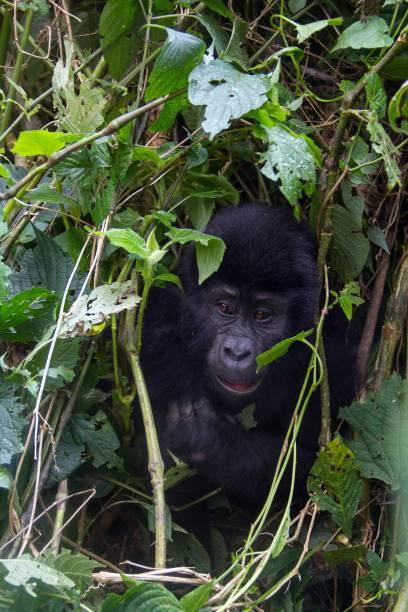goriile_montagne: (107, 200, 408, 580)
